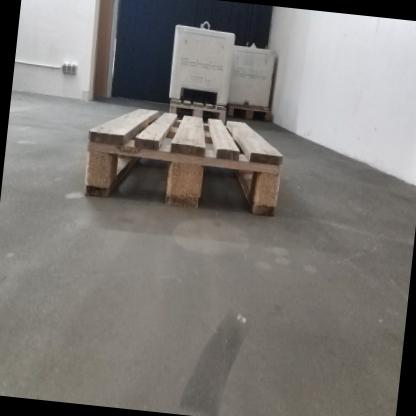BoxFace: (81, 103, 289, 222), (166, 94, 229, 124), (228, 100, 272, 123)
